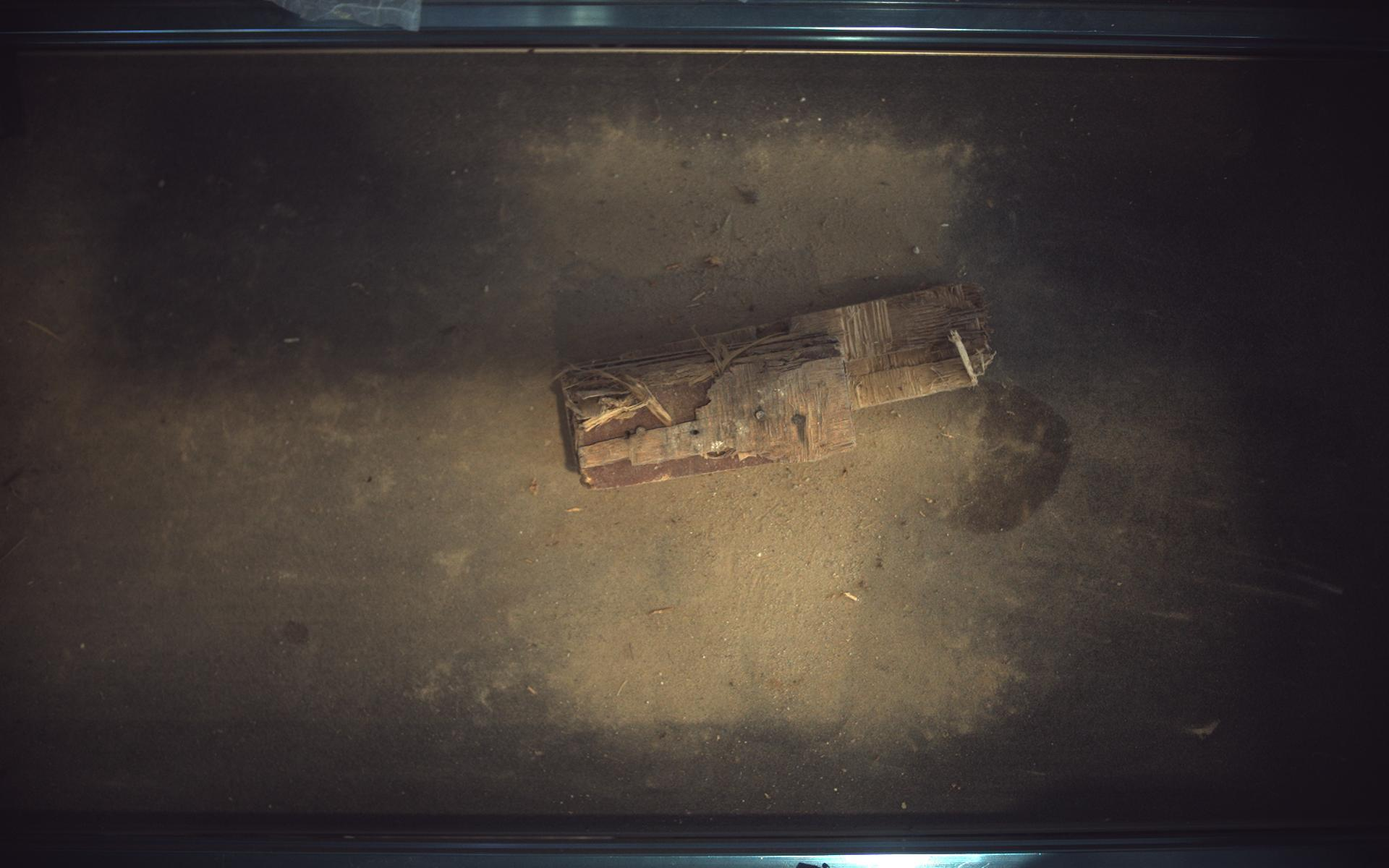wood: (558, 283, 997, 488)
